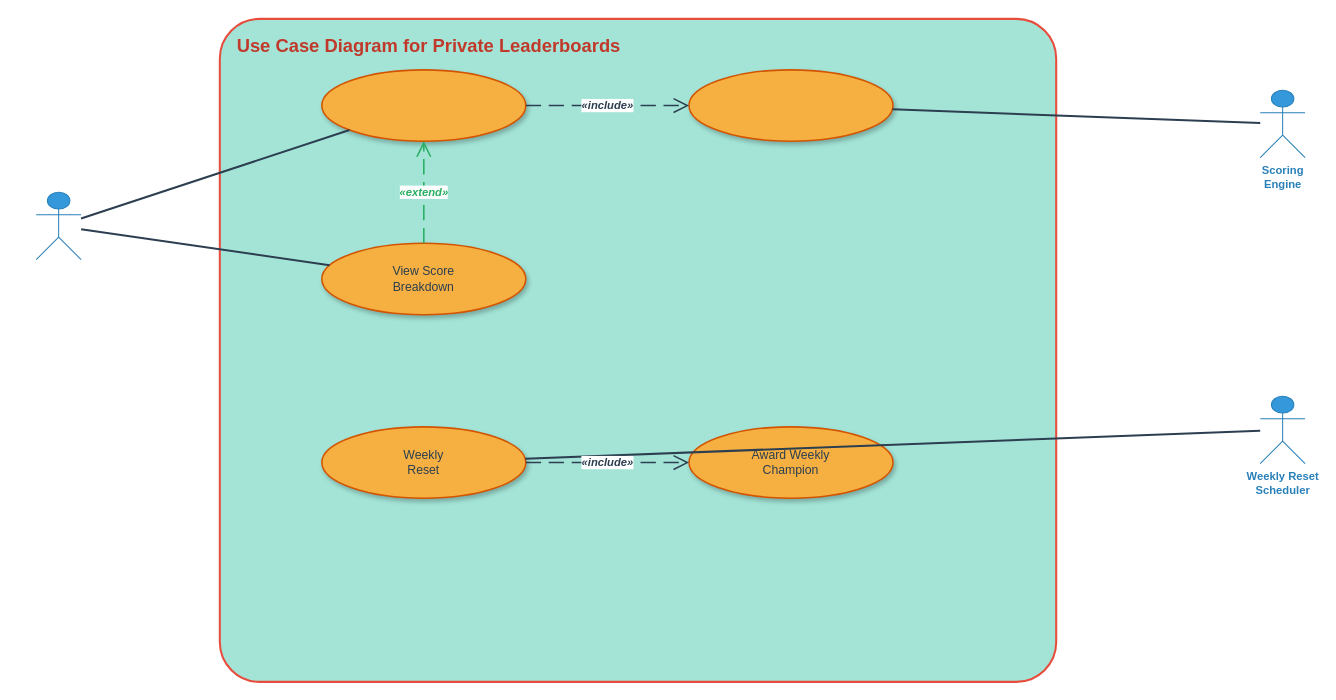
The diagram is 1336 pixels wide and 700 high, and some of its shapes have lost their labels. The shapes that lost their labels are listed below. From the top down, each one's centre as x and y in pixels, then its label:
pixel 424 107: View Weekly Leaderboard
pixel 791 107: Calculate Score
pixel 58 225: Authenticated User
